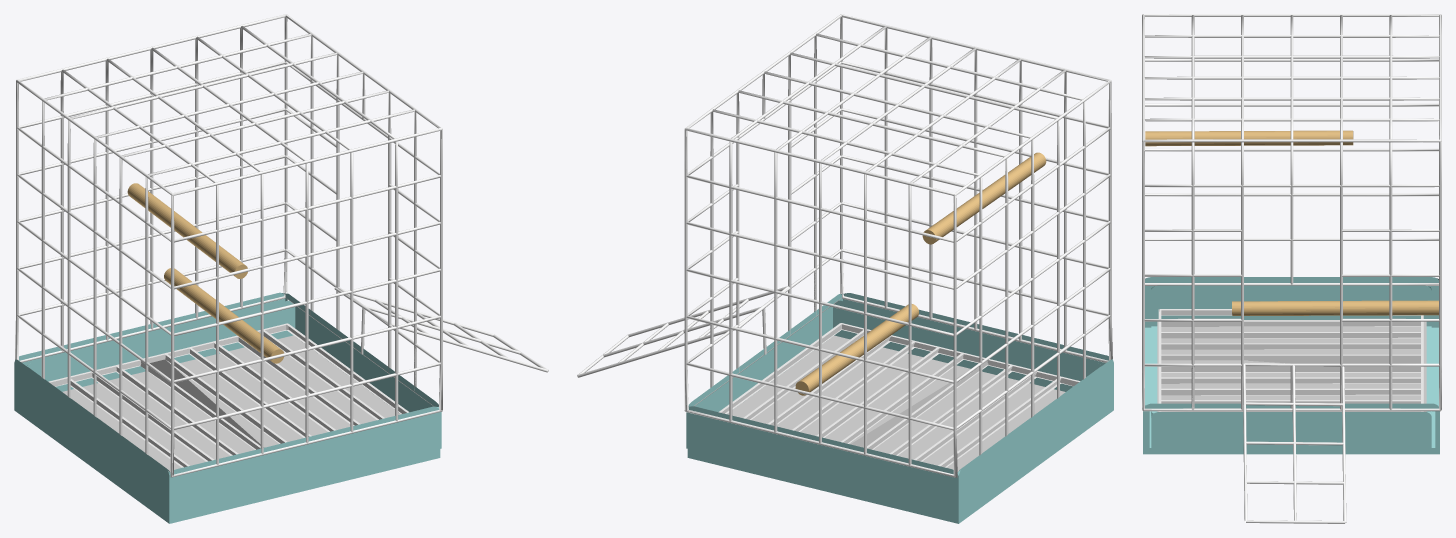
The model's file is birdcage.fbx.
The picture shows the model from 3 angles, left to right: view 1: azimuth 30°, elevation 25°; view 2: azimuth 150°, elevation 25°; view 3: azimuth 270°, elevation 25°; orthographic projection. The views are drawn at different scales.
Parts seen in each view (by area): view 1: オリ, 底枠, 紙, 網, 引き出し, ケージ入口, 木2, 木1; view 2: オリ, 底枠, 紙, 網, 引き出し, ケージ入口, 木2, 木1; view 3: オリ, 引き出し, 網, 紙, 底枠, ケージ入口, 木1, 木2.
Part boxes in pixels (x1,y1,x2,y2): オリ: (15, 14, 442, 477); 底枠: (14, 292, 440, 523); 紙: (62, 335, 400, 470); 網: (48, 323, 408, 467); 引き出し: (26, 300, 441, 471); ケージ入口: (334, 287, 548, 372); 木2: (127, 183, 247, 278); 木1: (164, 268, 283, 363); オリ: (684, 14, 1112, 477); 底枠: (687, 293, 1113, 523); 紙: (727, 335, 1065, 471); 網: (718, 323, 1080, 467); 引き出し: (686, 300, 1101, 471); ケージ入口: (577, 286, 789, 377); 木2: (922, 152, 1046, 244); 木1: (795, 304, 918, 395); オリ: (1142, 14, 1441, 411); 引き出し: (1151, 285, 1431, 452); 網: (1158, 309, 1423, 411); 紙: (1157, 320, 1426, 411); 底枠: (1143, 277, 1439, 454); ケージ入口: (1242, 363, 1346, 523); 木1: (1232, 300, 1438, 315); 木2: (1145, 130, 1353, 146).
Bounding box in the file's own units: 161 × 117 × 101.
